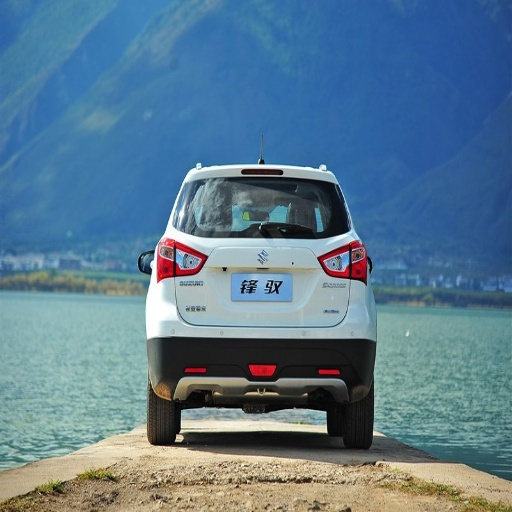back_bumper: (146, 280, 373, 401)
trunk: (160, 234, 353, 330)
